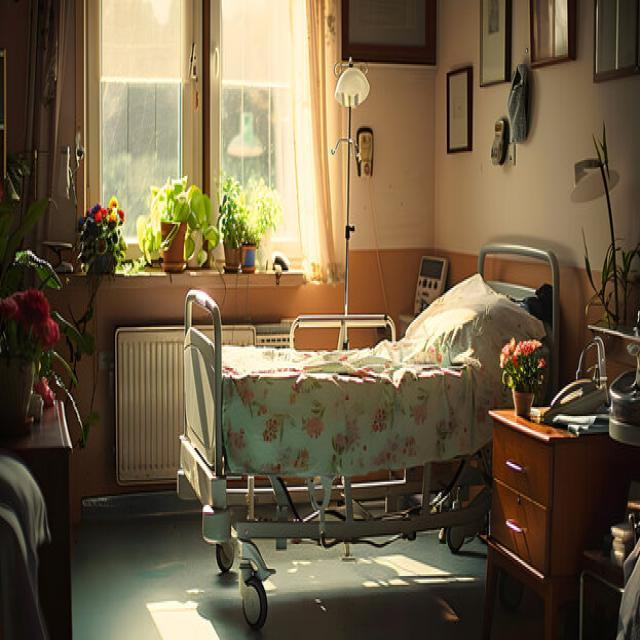bed: (176, 240, 560, 628)
